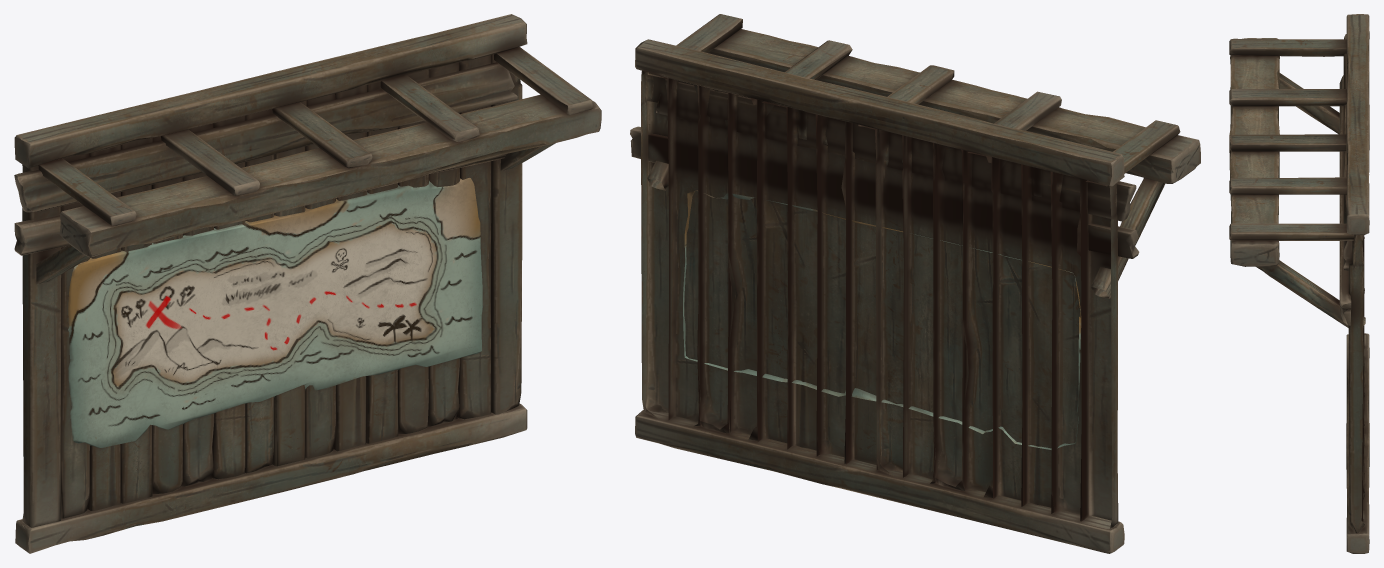
Rendered from SM_DeskBackBoard_00.fbx.
The picture shows the model from 3 angles, left to right: view 1: azimuth 30°, elevation 25°; view 2: azimuth 150°, elevation 25°; view 3: azimuth 270°, elevation 25°; orthographic projection. The views are drawn at different scales.
Parts seen in each view (by area): view 1: SM_DeskBackBoard; view 2: SM_DeskBackBoard; view 3: SM_DeskBackBoard.
Boxes of the visible parts, x1,y1,x2,y2 form: SM_DeskBackBoard: [14, 14, 601, 553]; SM_DeskBackBoard: [630, 14, 1200, 553]; SM_DeskBackBoard: [1229, 14, 1369, 553].
Bounding box in the file's own units: 272 × 202 × 75.81.
